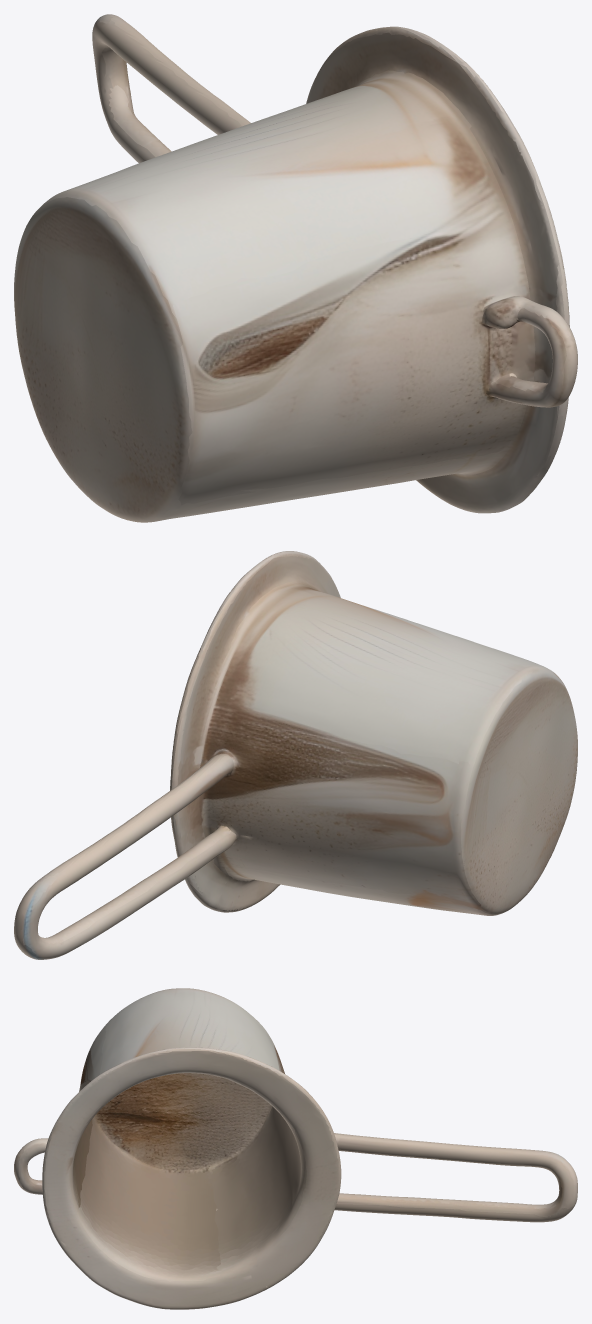
File: iter_0.glb
3 renders of one model, top to bottom at view 1: azimuth 30°, elevation 25°; view 2: azimuth 150°, elevation 25°; view 3: azimuth 270°, elevation 25°, orthographic. The views are drawn at different scales.
Visible parts, largest first — view 1: textured_mesh; view 2: textured_mesh; view 3: textured_mesh.
Boxes of the visible parts, x1,y1,x2,y2 form: textured_mesh: (14,14,577,522); textured_mesh: (14,551,577,959); textured_mesh: (14,988,577,1309).
Bounding box in the file's own units: 0.8673 × 1.02 × 1.97.
1 material, 1 textured.
